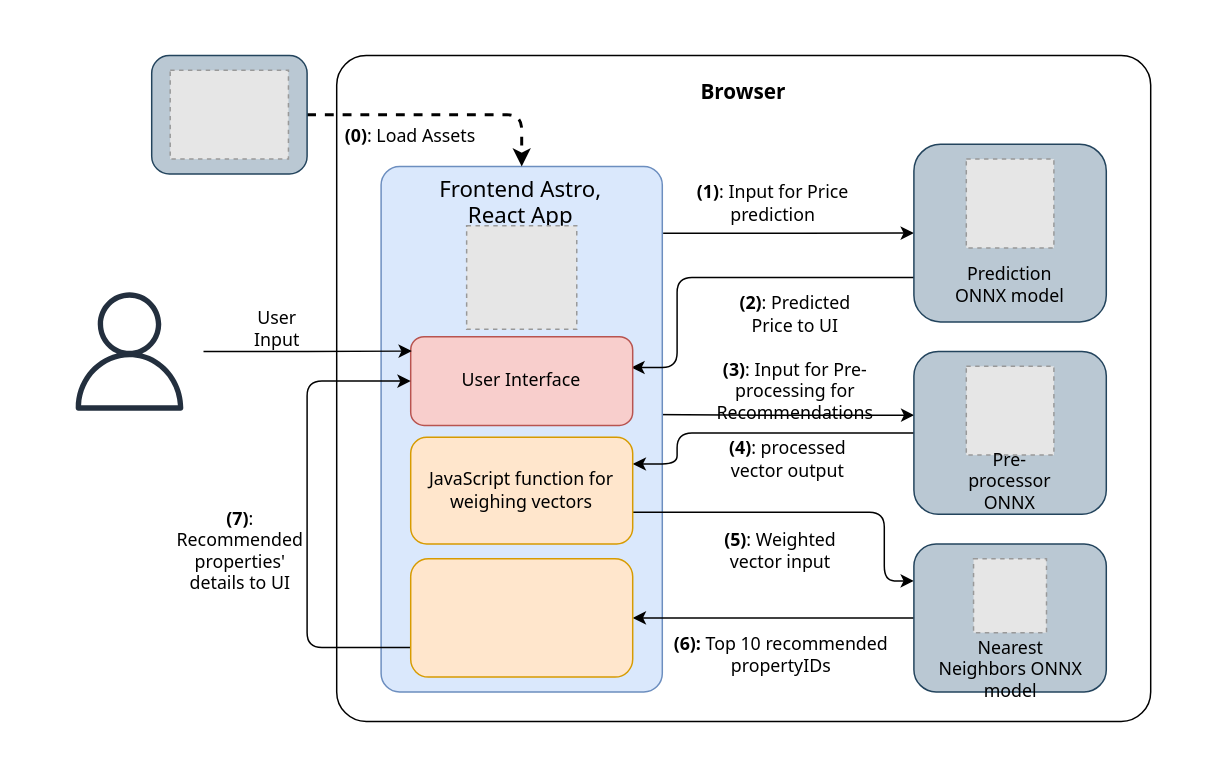
The diagram is 1221 pixels wide and 770 high, and some of its shapes have lost their labels. Grey dashed boxes stand in for pictures. Each missing label, with the centre of its shape:
"JavaScript function to extract and transform MetaData for given propertyIDs" belongs at point (521, 617).
"User" belongs at point (129, 351).
